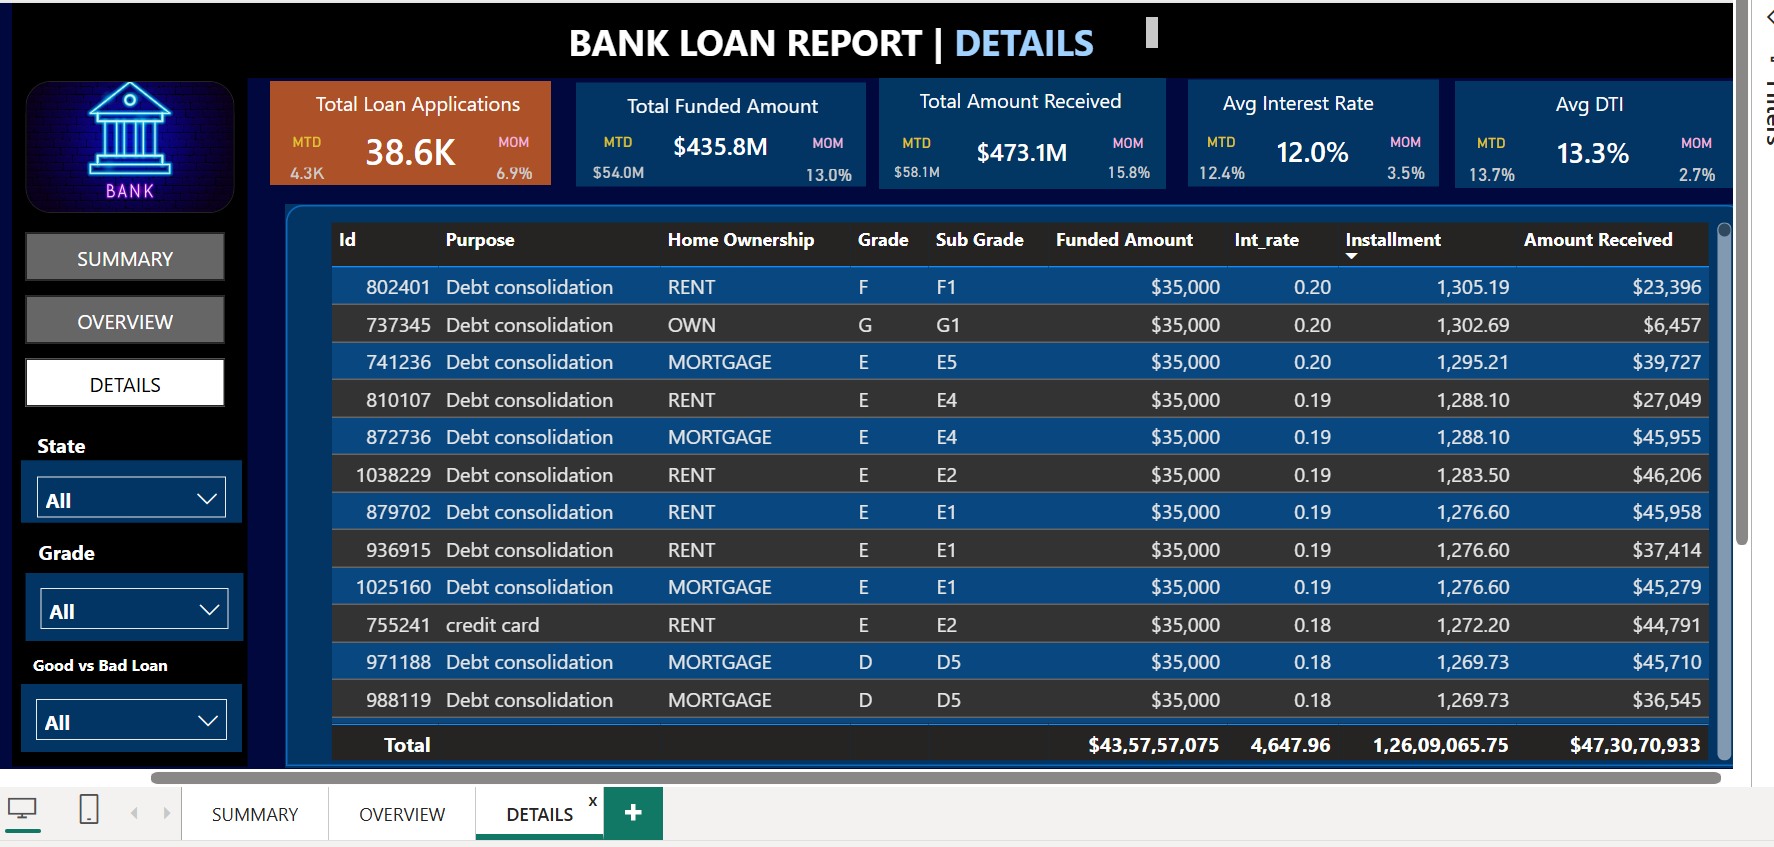

This screenshot's page, from the dashboard's own definition file:
{"tool":"powerbi","page":{"name":"DETAILS","canvas":[1280,720],"ordinal":2},"visuals":[{"type":"shape","box":[306,134,974,376],"z":0},{"type":"shape","box":[124,50,157,459],"z":1000},{"type":"textbox","box":[702,50,191,74],"z":1000,"group":"g2"},{"type":"textbox","box":[908,51,167,71],"z":1000,"group":"g3"},{"type":"textbox","box":[296,52,187,69],"z":1000,"group":"g1"},{"type":"textbox","box":[1086,52,185,71],"z":1000,"group":"g4"},{"type":"textbox","box":[500,53,193,69],"z":1000,"group":"g5"},{"type":"shape","box":[124,0,1156,50],"z":2000},{"type":"group","id":"g1","title":"Group 1","box":[296,52,187,69],"z":3000},{"type":"group","id":"g2","title":"Group 1","box":[702,50,191,74],"z":4000},{"type":"group","id":"g3","title":"Group 1","box":[908,51,167,71],"z":5000},{"type":"group","id":"g4","title":"Group 1","box":[1086,52,185,71],"z":6000},{"type":"textbox","box":[490,4,403,42],"z":7000},{"type":"card","fields":{"Values":["bank_loan_data.Total Funded Amount"]},"box":[549.1,76.8,93.9,40],"z":7000,"group":"g5"},{"type":"card","fields":{"Values":["bank_loan_data.Average Interest Reate"]},"box":[950.6,84,80.8,32],"z":7000,"group":"g3"},{"type":"card","fields":{"Values":["bank_loan_data.Total Loan Applications"]},"box":[343.7,84.1,90.4,31.1],"z":7000,"group":"g1"},{"type":"card","fields":{"Values":["bank_loan_data.Total Amount Received"]},"box":[750.7,84.4,92.4,33.4],"z":7000,"group":"g2"},{"type":"card","fields":{"Values":["bank_loan_data.Avg DTI"]},"box":[1133.2,85,89.5,32],"z":7000,"group":"g4"},{"type":"textbox","box":[702,50,191,34.4],"z":8000,"group":"g2"},{"type":"textbox","box":[908,51,167,33],"z":8000,"group":"g3"},{"type":"textbox","box":[296,52,187,32.1],"z":8000,"group":"g1"},{"type":"textbox","box":[1086,52,185,33],"z":8000,"group":"g4"},{"type":"group","id":"g5","title":"Group 1","box":[500,53,193,69],"z":8000},{"type":"textbox","box":[500,53,193,32.1],"z":8000,"group":"g5"},{"type":"card","title":"MTD","fields":{"Values":["bank_loan_data.MTD Loan Applications"]},"box":[296,87,48.9,31.1],"z":9000,"group":"g1"},{"type":"card","title":"MTD","fields":{"Values":["bank_loan_data.MTD Funded Amount"]},"box":[500,87,55.5,32.1],"z":9000,"group":"g5"},{"type":"card","title":"MTD","fields":{"Values":["bank_loan_data.MTD Avg Int Rate"]},"box":[908,87,43.7,32],"z":9000,"group":"g3"},{"type":"card","title":"MTD","fields":{"Values":["bank_loan_data.MTD Total Amount Receive"]},"box":[702,87.5,49.9,33.4],"z":9000,"group":"g2"},{"type":"card","title":"MTD","fields":{"Values":["bank_loan_data.MTD Avg DTI"]},"box":[1086,88,48.4,32],"z":9000,"group":"g4"},{"type":"slicer","fields":{"Values":["bank_loan_data.address_state"]},"box":[130,305,147,41],"z":9000},{"type":"card","title":"MOM","fields":{"Values":["bank_loan_data.MOM Loan Applications"]},"box":[434.1,87,48.9,31.1],"z":10000,"group":"g1"},{"type":"card","title":"MOM","fields":{"Values":["bank_loan_data.MOM Avg Int Rate"]},"box":[1031.3,87,43.7,32],"z":10000,"group":"g3"},{"type":"card","title":"MOM","fields":{"Values":["bank_loan_data.MOM Total amount Received"]},"box":[843.1,87.5,49.9,33.4],"z":10000,"group":"g2"},{"type":"card","title":"MOM","fields":{"Values":["bank_loan_data.MOM Total Funded amount"]},"box":[642.5,88,50.5,31.1],"z":10000,"group":"g5"},{"type":"card","title":"MOM","fields":{"Values":["bank_loan_data.MOM Avg DTI"]},"box":[1222.6,88,48.4,32],"z":10000,"group":"g4"},{"type":"slicer","fields":{"Values":["bank_loan_data.GoodLoan Vs BadLoan"]},"box":[130,454,147,45],"z":10000},{"type":"slicer","fields":{"Values":["bank_loan_data.grade"]},"box":[133,380,145,45],"z":11000},{"type":"textbox","box":[130,425,120,29],"z":12000},{"type":"textbox","box":[133,351,79,29],"z":13000},{"type":"textbox","box":[136,280,77,30],"z":14000},{"type":"tableEx","fields":{"Values":["bank_loan_data.id","bank_loan_data.purpose","bank_loan_data.home_ownership","bank_loan_data.grade","bank_loan_data.sub_grade","bank_loan_data.Total Funded Amount","Sum(bank_loan_data.int_rate)","Sum(bank_loan_data.installment)","bank_loan_data.Total Amount Received"]},"box":[331,141,949,369],"z":15000},{"type":"image","box":[133,52,139,88],"z":16000},{"type":"pageNavigator","box":[133,153,133,116],"z":17000}]}

Visuals, with their boxes on the page's 1280x720 design canvas (x1, y1, x2, y2). These are canvas units, not pixel positions in the 1774x847 screenshot, which may show the page scaled, cropped or inside an application window:
shape: Rect(306, 134, 1280, 510)
shape: Rect(124, 50, 281, 509)
textbox: Rect(702, 50, 893, 124)
textbox: Rect(908, 51, 1075, 122)
textbox: Rect(296, 52, 483, 121)
textbox: Rect(1086, 52, 1271, 123)
textbox: Rect(500, 53, 693, 122)
shape: Rect(124, 0, 1280, 50)
"Group 1" group: Rect(296, 52, 483, 121)
"Group 1" group: Rect(702, 50, 893, 124)
"Group 1" group: Rect(908, 51, 1075, 122)
"Group 1" group: Rect(1086, 52, 1271, 123)
textbox: Rect(490, 4, 893, 46)
card - bank_loan_data.Total Funded Amount: Rect(549, 77, 643, 117)
card - bank_loan_data.Average Interest Reate: Rect(951, 84, 1031, 116)
card - bank_loan_data.Total Loan Applications: Rect(344, 84, 434, 115)
card - bank_loan_data.Total Amount Received: Rect(751, 84, 843, 118)
card - bank_loan_data.Avg DTI: Rect(1133, 85, 1223, 117)
textbox: Rect(702, 50, 893, 84)
textbox: Rect(908, 51, 1075, 84)
textbox: Rect(296, 52, 483, 84)
textbox: Rect(1086, 52, 1271, 85)
"Group 1" group: Rect(500, 53, 693, 122)
textbox: Rect(500, 53, 693, 85)
"MTD" card: Rect(296, 87, 345, 118)
"MTD" card: Rect(500, 87, 556, 119)
"MTD" card: Rect(908, 87, 952, 119)
"MTD" card: Rect(702, 88, 752, 121)
"MTD" card: Rect(1086, 88, 1134, 120)
slicer - bank_loan_data.address_state: Rect(130, 305, 277, 346)
"MOM" card: Rect(434, 87, 483, 118)
"MOM" card: Rect(1031, 87, 1075, 119)
"MOM" card: Rect(843, 88, 893, 121)
"MOM" card: Rect(642, 88, 693, 119)
"MOM" card: Rect(1223, 88, 1271, 120)
slicer - bank_loan_data.GoodLoan Vs BadLoan: Rect(130, 454, 277, 499)
slicer - bank_loan_data.grade: Rect(133, 380, 278, 425)
textbox: Rect(130, 425, 250, 454)
textbox: Rect(133, 351, 212, 380)
textbox: Rect(136, 280, 213, 310)
tableEx - bank_loan_data.id x bank_loan_data.purpose: Rect(331, 141, 1280, 510)
image: Rect(133, 52, 272, 140)
pageNavigator: Rect(133, 153, 266, 269)
